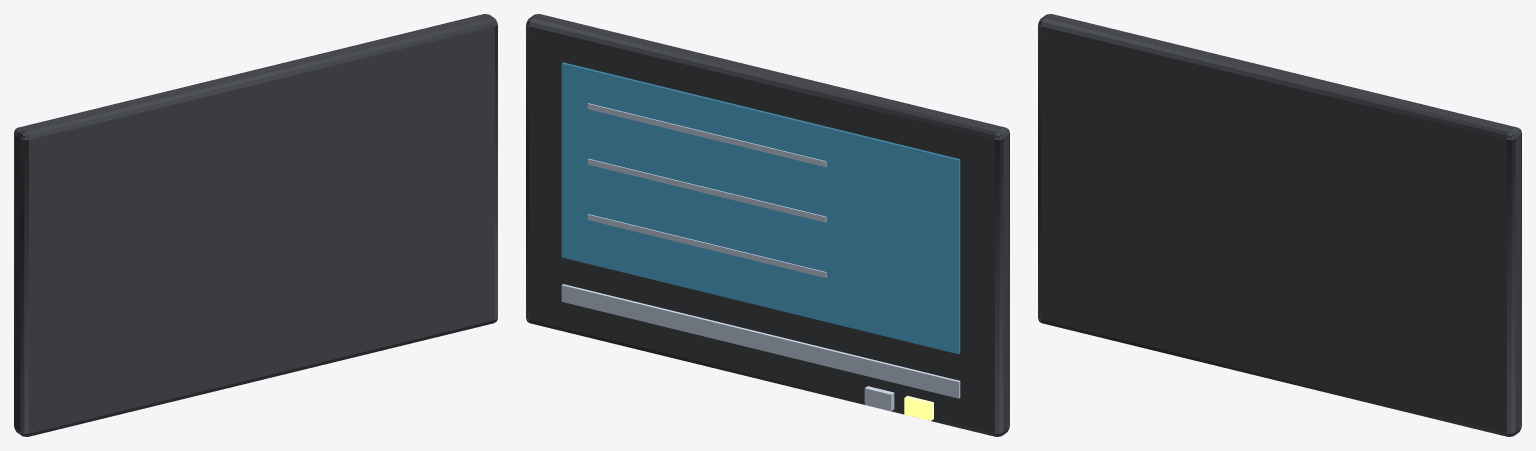
The model's file is SM_SB_Kit_WallConsole.fbx.
3 renders of one model, left to right at view 1: azimuth 30°, elevation 25°; view 2: azimuth 150°, elevation 25°; view 3: azimuth 330°, elevation 25°, orthographic.
Visible parts, largest first — view 1: SM_SB_Kit_WallConsole; view 2: SM_SB_Kit_WallConsole; view 3: SM_SB_Kit_WallConsole.
Part boxes in pixels (box(x1,y1,x2,y2)): SM_SB_Kit_WallConsole: box(14, 14, 497, 436); SM_SB_Kit_WallConsole: box(526, 14, 1009, 436); SM_SB_Kit_WallConsole: box(1038, 14, 1521, 436).
Size of the model in its own units: 180 by 10 by 110.
